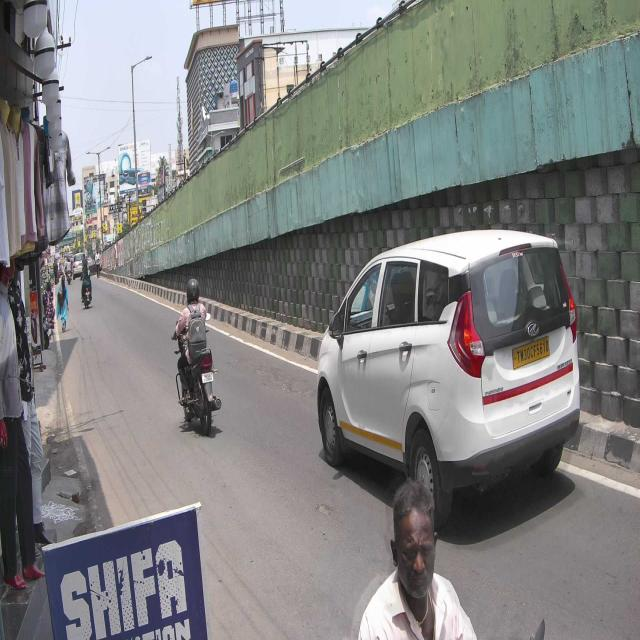single_rider: (171, 278, 223, 436)
